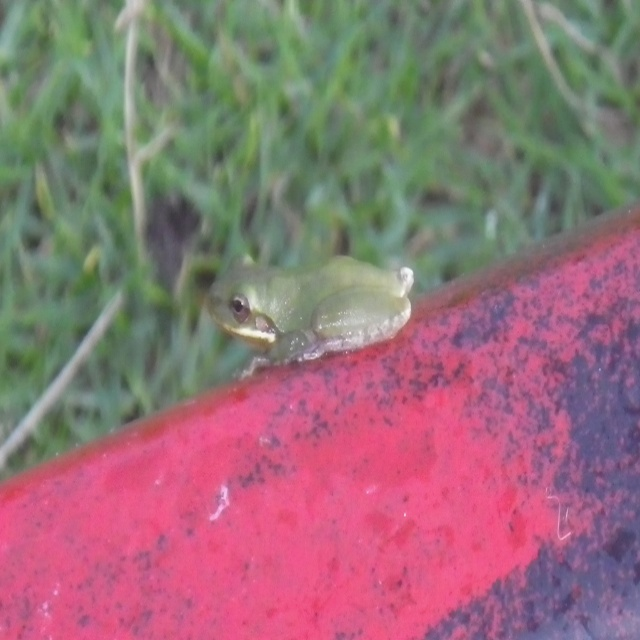Frog: (204, 249, 414, 380)
